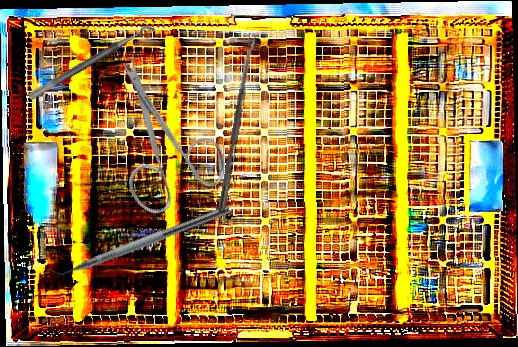Chopper: (41, 193, 231, 287)
Fixation Ring: (27, 21, 161, 112)
Iris Scissors: (64, 54, 253, 235)
Surgical Spoon: (217, 33, 258, 213)
